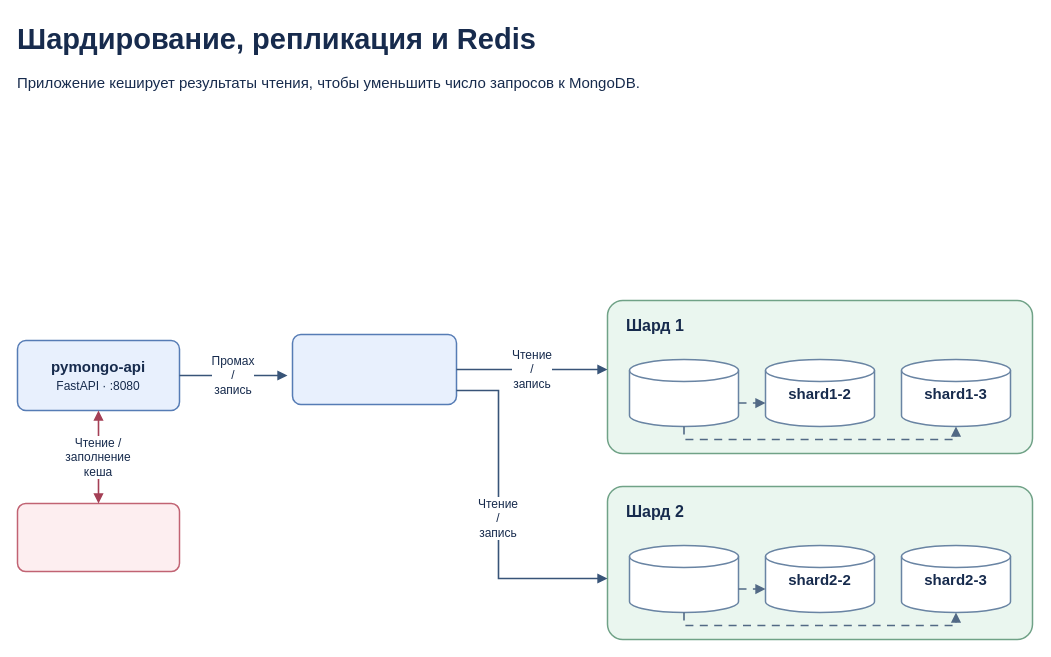
The diagram is 1051 pixels wide and 657 high, and some of its shapes have lost their labels. Each missing label, with the centre of its shape:
"mongos Маршрутизатор · :27017" goes at pixel 374 369.
"redis Redis · :6379" goes at pixel 98 537.
"shard1-1 shardSrv · Primary" goes at pixel 683 392.
"shard2-1 shardSrv · Primary" goes at pixel 683 578.
